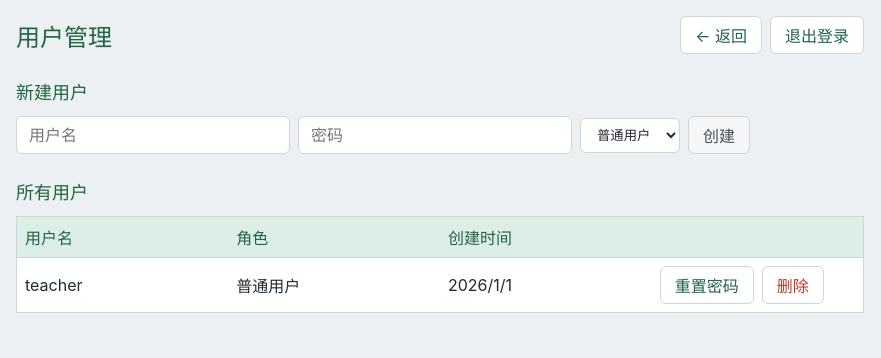
AdminPage › resets a user password after confirmation
Click the button with test id "reset-password-u1": (707, 285) [660,266,754,304]
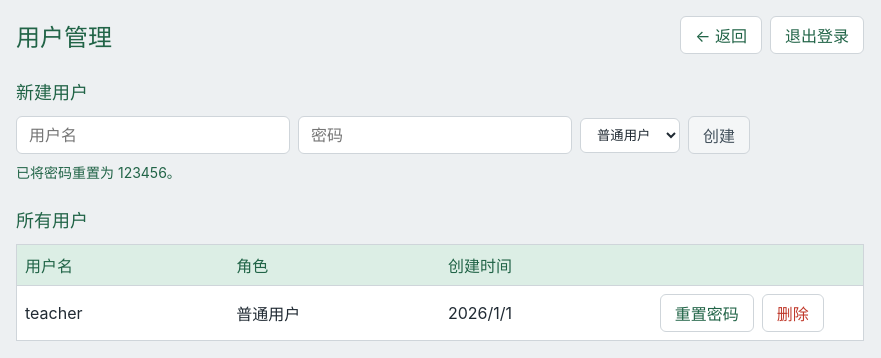
Check: the text "已将密码重置为 123456。" is shown, box [16,164,181,181]
